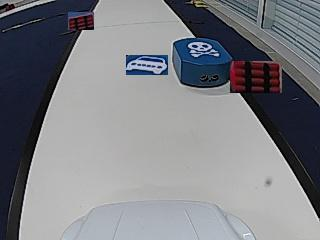danger: (187, 41, 220, 58)
